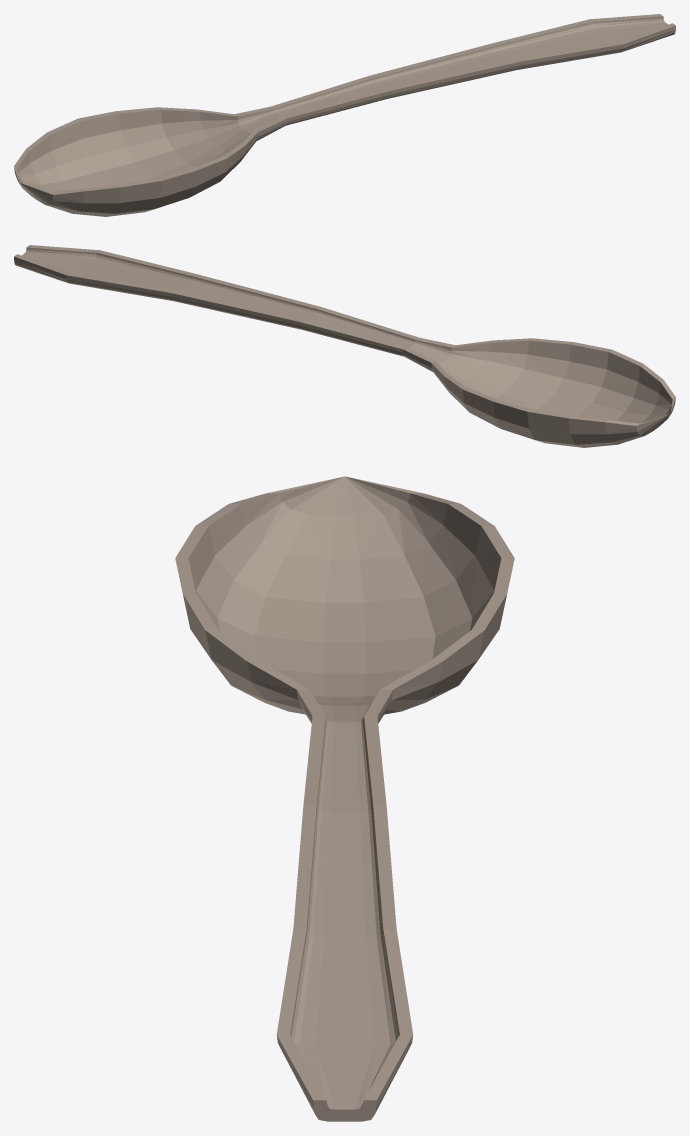
The model's file is SM_Cook_SoupSpoon_01.obj.
3 views of the same model, one above another, from view 1: azimuth 30°, elevation 25°; view 2: azimuth 150°, elevation 25°; view 3: azimuth 270°, elevation 25° (orthographic). The views are drawn at different scales.
Parts seen in each view (by area): view 1: SM_Cook_SoupSpoon_01; view 2: SM_Cook_SoupSpoon_01; view 3: SM_Cook_SoupSpoon_01.
Boxes of the visible parts, bbox=[...] form: SM_Cook_SoupSpoon_01: bbox=[14, 14, 675, 216]; SM_Cook_SoupSpoon_01: bbox=[14, 245, 675, 447]; SM_Cook_SoupSpoon_01: bbox=[175, 476, 514, 1121].
Size of the model in its own units: 0.18 by 0.0136 by 0.0408.
1 material, 1 textured.
